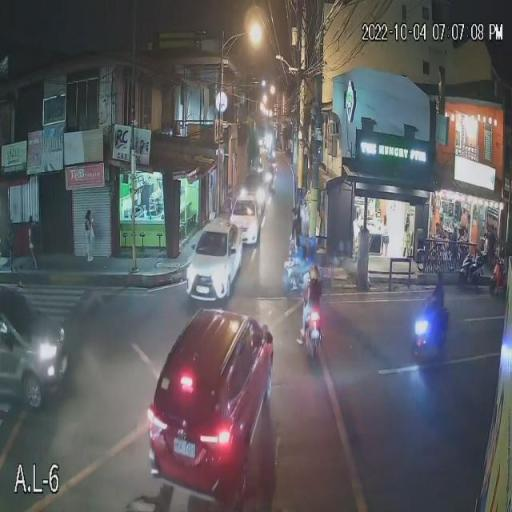helmet: (307, 264, 318, 274), (430, 274, 440, 284)
motorcycle: (410, 302, 450, 364), (298, 296, 324, 360), (283, 256, 312, 298), (456, 252, 490, 287), (492, 256, 510, 300)
rider: (298, 261, 323, 345), (418, 276, 448, 341), (286, 224, 308, 278), (492, 248, 507, 286)
